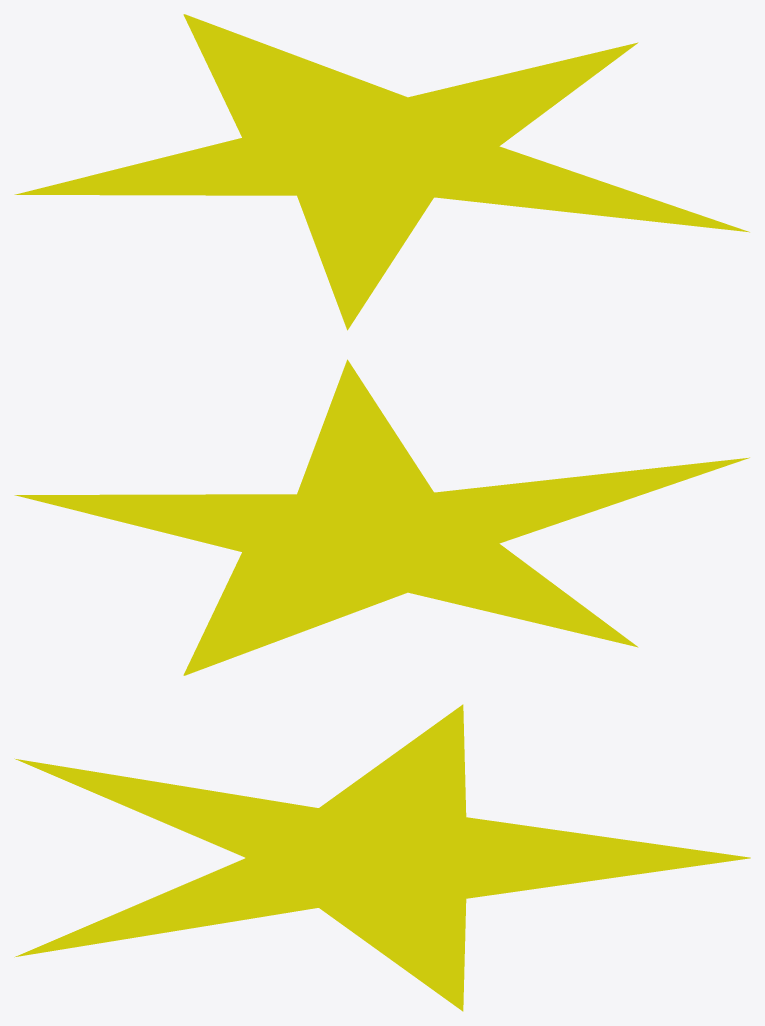
The model's file is starIcon.fbx.
3 renders of one model, top to bottom at view 1: azimuth 30°, elevation 25°; view 2: azimuth 150°, elevation 25°; view 3: azimuth 270°, elevation 25°, orthographic.
Parts seen in each view (by area): view 1: polySurface3; view 2: polySurface3; view 3: polySurface3.
Part boxes in pixels (left/top/right/bottom): polySurface3: left=14, top=14, right=749, bottom=330; polySurface3: left=14, top=359, right=749, bottom=675; polySurface3: left=14, top=704, right=750, bottom=1011.
Bounding box in the file's own units: 224 × 0 × 227.
